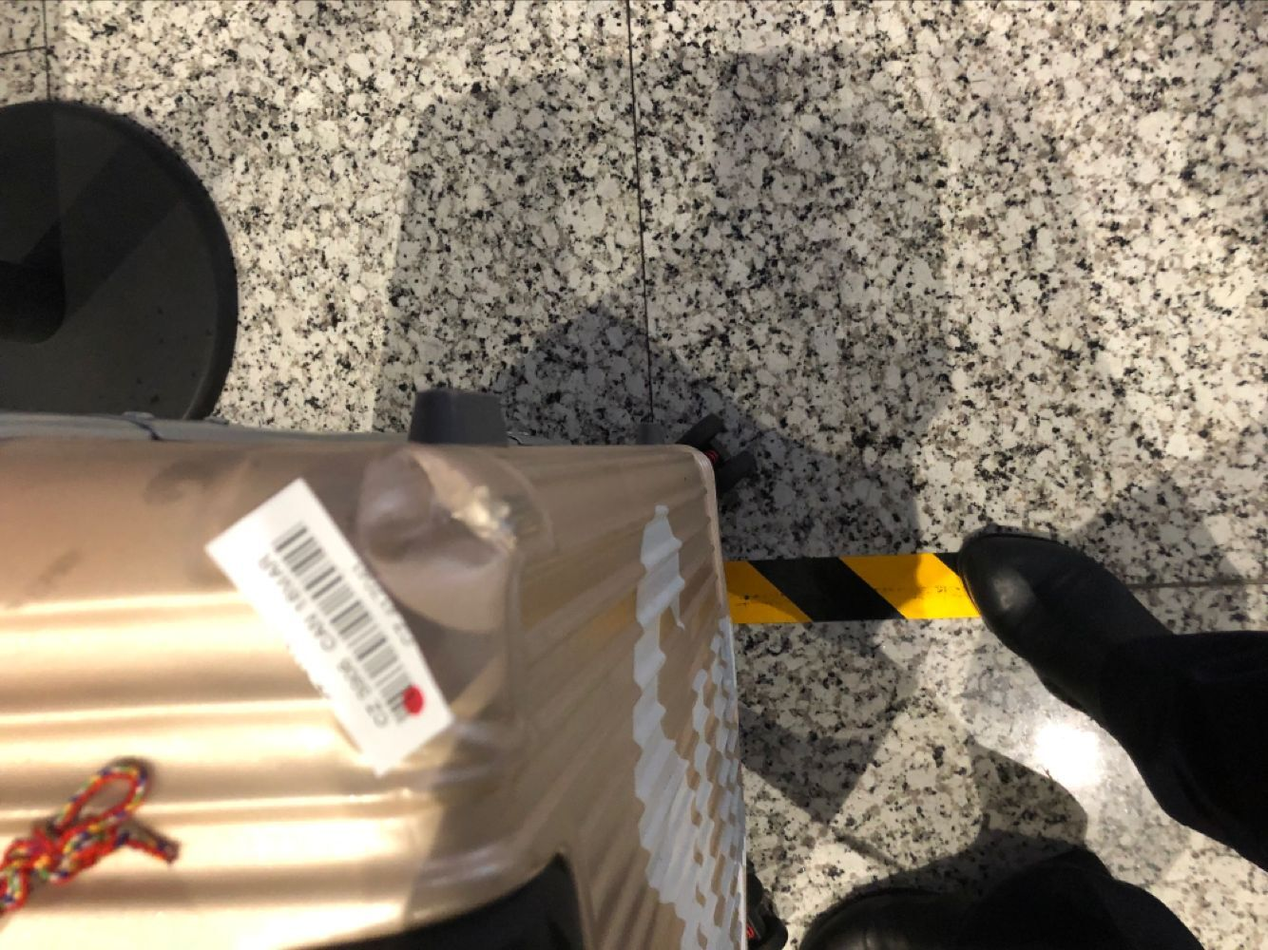hollow: (353, 446, 517, 575)
